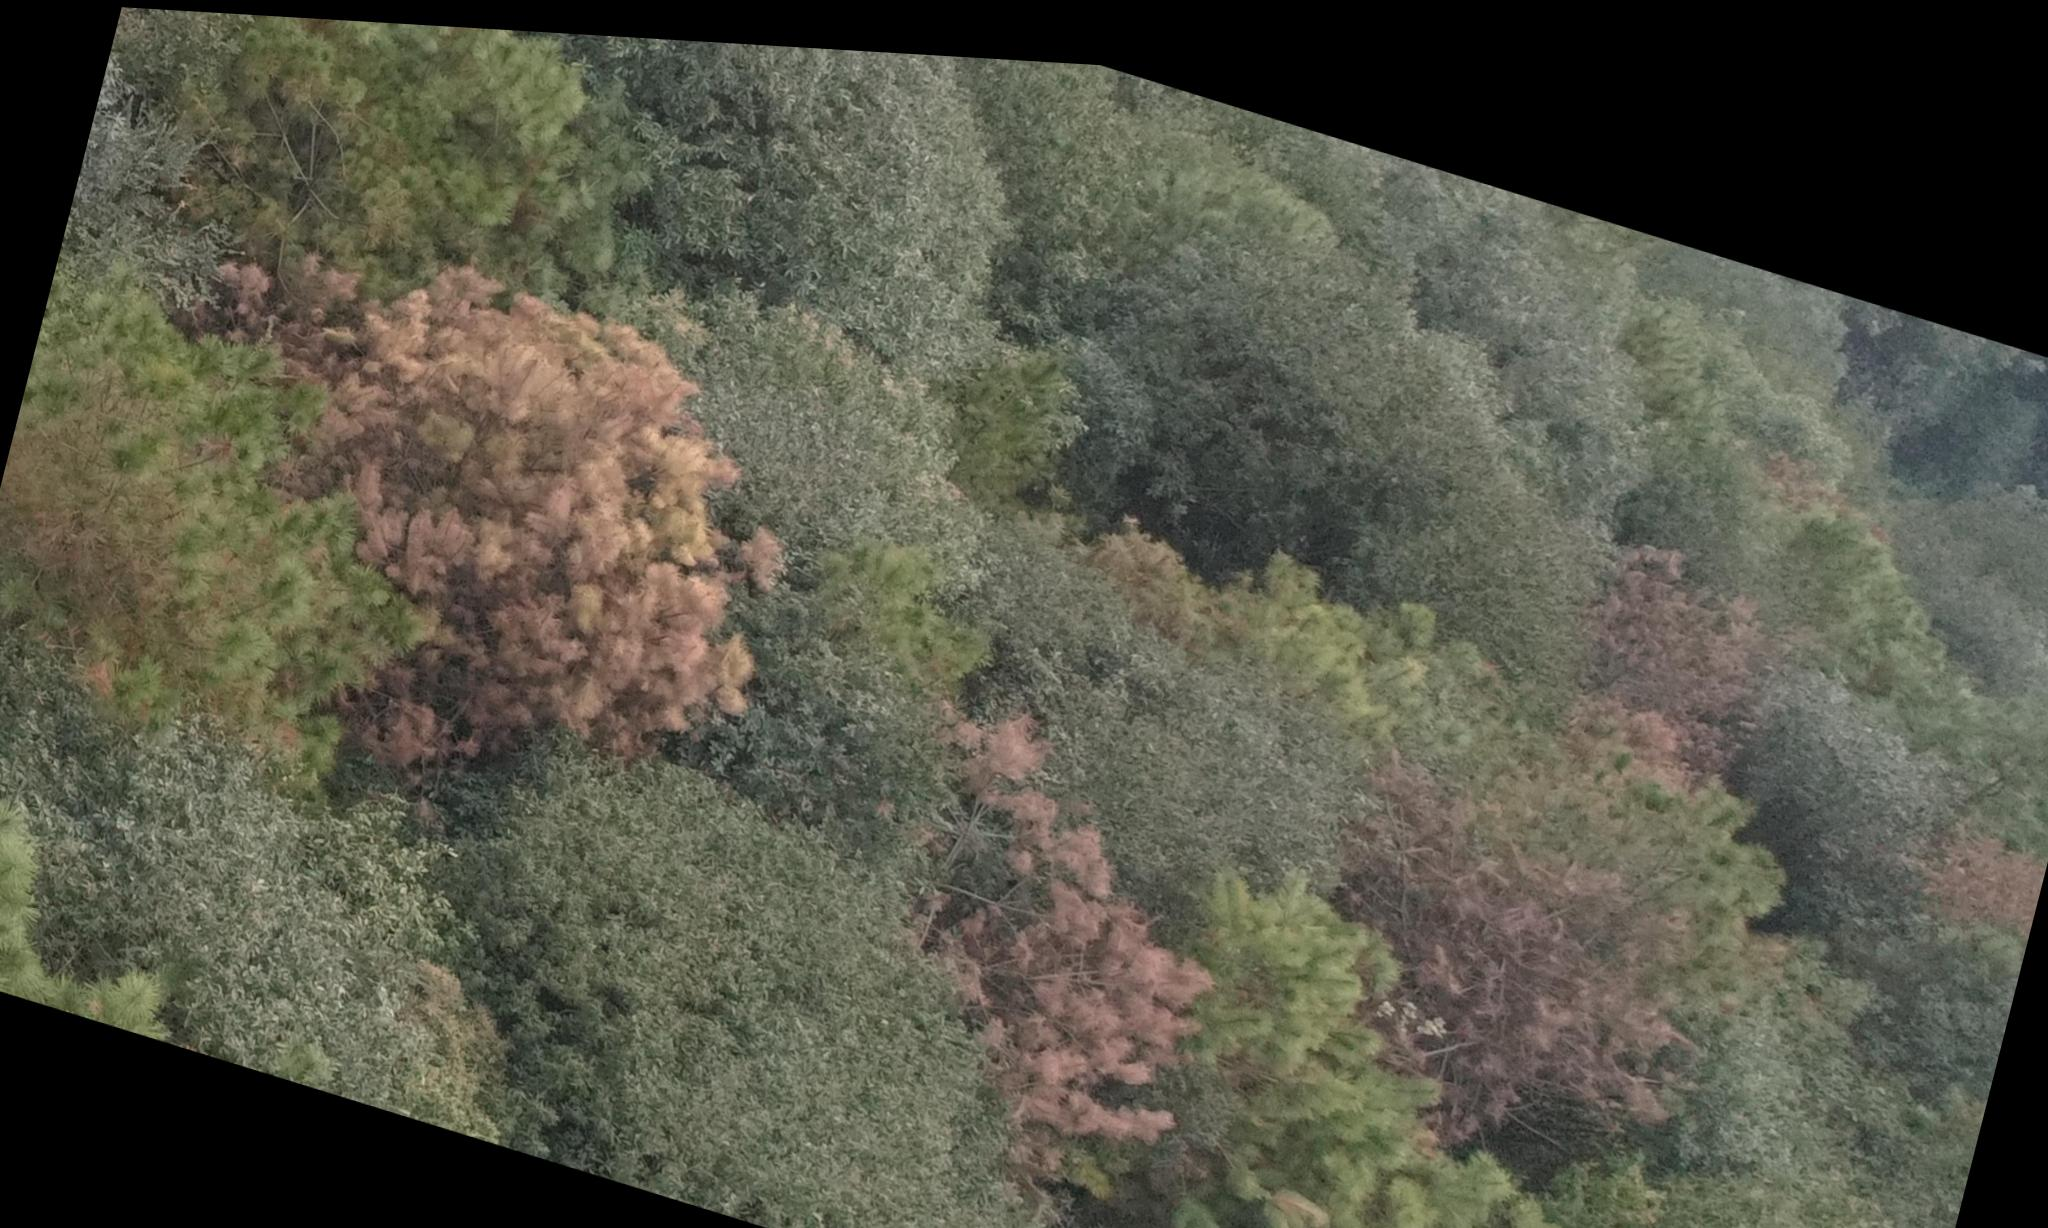heavy: (238, 243, 824, 817), (860, 668, 1267, 1191), (1899, 795, 2045, 924)
light: (1281, 766, 1707, 1152)
